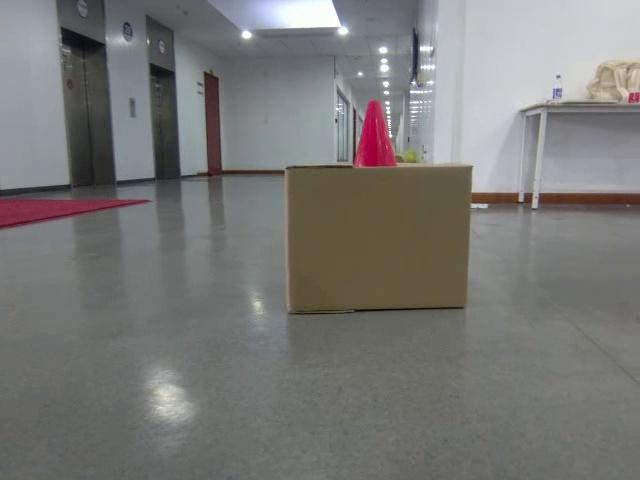red_barrel: (354, 99, 397, 169)
